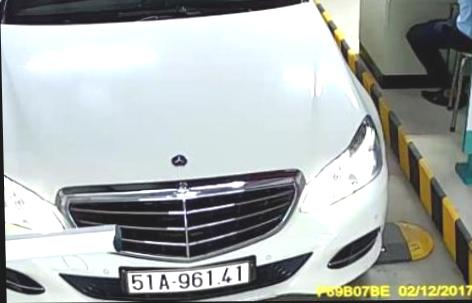License_Plate: (115, 259, 259, 298)
